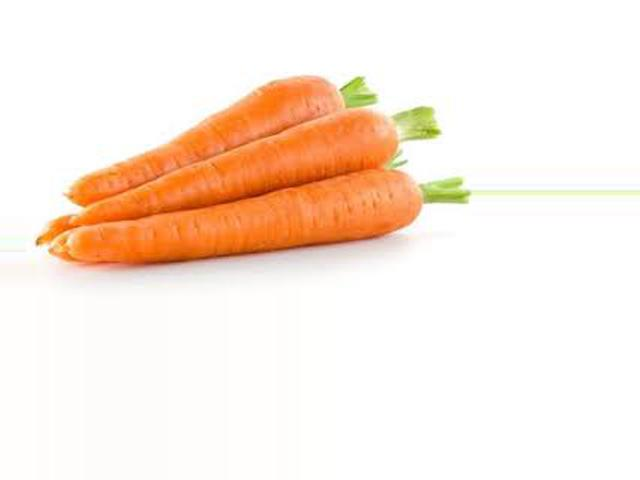carrot: (49, 177, 445, 260)
